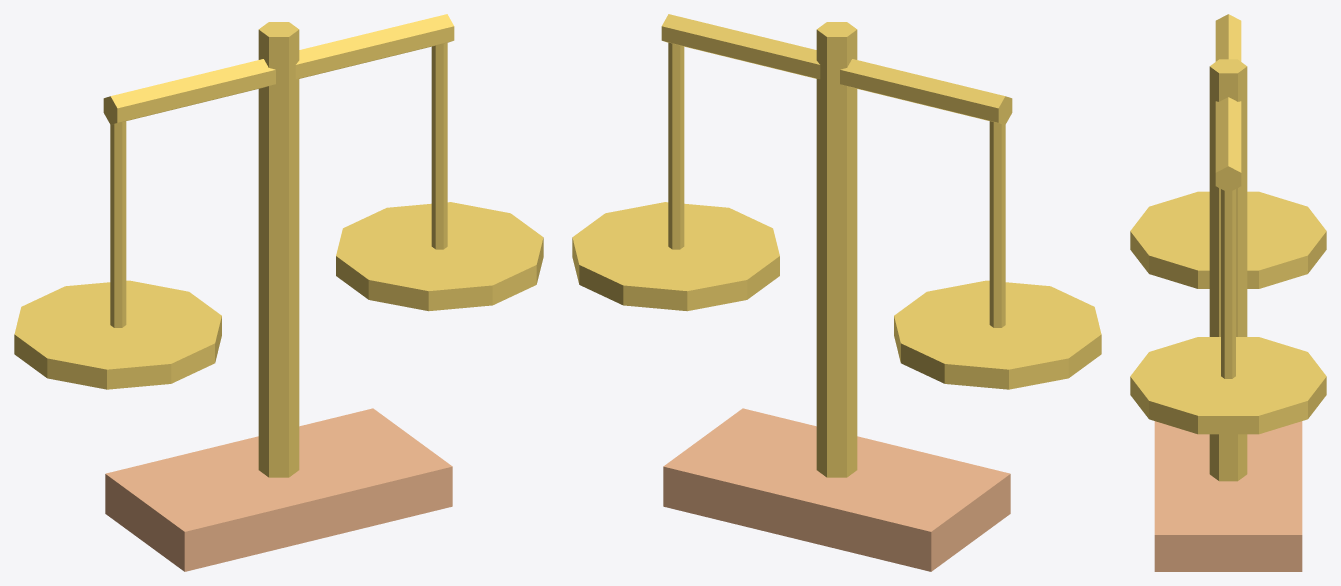
The picture shows the model from 3 angles, left to right: view 1: azimuth 30°, elevation 25°; view 2: azimuth 150°, elevation 25°; view 3: azimuth 270°, elevation 25°; orthographic projection. The views are drawn at different scales.
Visible parts, largest first — view 1: Base, Pillar, Scale pan.001, Scale pan, Beam, Suspension.001, Suspension; view 2: Base, Pillar, Scale pan.001, Scale pan, Beam, Suspension.001, Suspension; view 3: Base, Scale pan.001, Scale pan, Pillar, Beam, Suspension.001.
Part boxes in pixels (x1,y1,x2,y2): Base: (105, 408, 452, 571); Pillar: (258, 22, 299, 477); Scale pan.001: (336, 202, 543, 311); Scale pan: (14, 280, 221, 389); Beam: (103, 14, 454, 124); Suspension.001: (431, 42, 447, 249); Suspension: (110, 121, 126, 327); Base: (663, 408, 1010, 571); Pillar: (816, 22, 857, 477); Scale pan.001: (572, 202, 779, 311); Scale pan: (894, 280, 1101, 389); Beam: (661, 14, 1012, 124); Suspension.001: (668, 42, 684, 249); Suspension: (989, 121, 1005, 327); Base: (1154, 421, 1302, 571); Scale pan.001: (1130, 337, 1326, 434); Scale pan: (1130, 191, 1326, 288); Pillar: (1209, 59, 1247, 481); Beam: (1215, 14, 1241, 192); Suspension.001: (1221, 189, 1235, 378).
Bounding box in the file's own units: 64.83 × 60 × 24.
